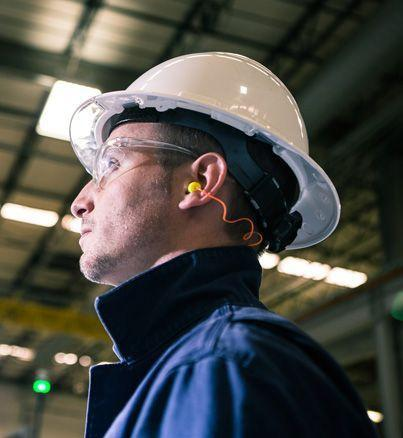hardhat: (68, 52, 336, 258)
worker: (69, 53, 379, 436)
